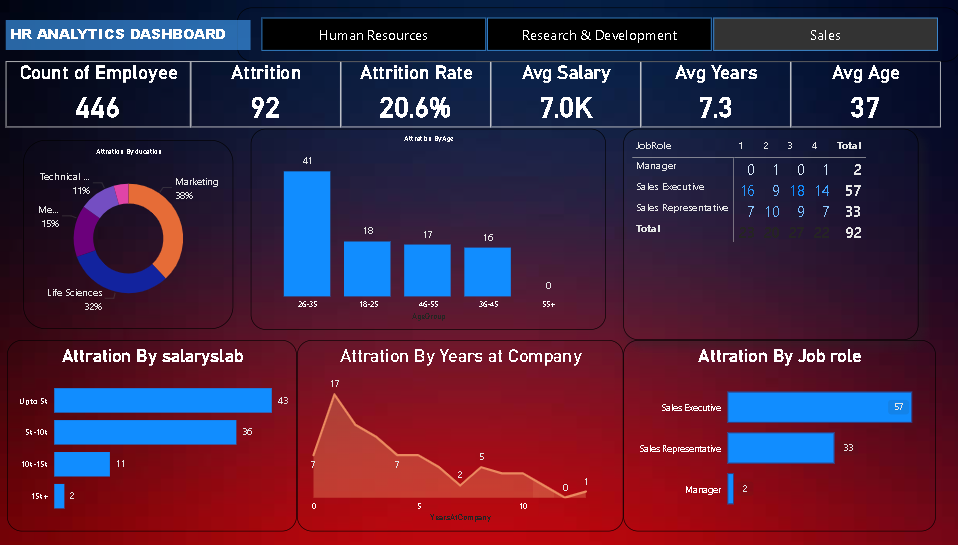

Layout of this report page (visuals, bound fields, positions):
{"tool":"powerbi","page":{"name":"Page 1","canvas":[1285,730],"ordinal":0},"visuals":[{"type":"card","title":"Count of Employee","fields":{"Values":["CountNonNull(HR_Analytics 001(1).EmpID)"]},"box":[11.7,81.7,246.7,88.3],"z":0},{"type":"card","title":"Attrition","fields":{"Values":["Sum(HR_Analytics 001(1).Attritioncount)"]},"box":[258.3,81.7,200,88.3],"z":1000},{"type":"card","title":"Attrition Rate","fields":{"Values":["HR_Analytics 001(1).AttritionRate"]},"box":[458.3,81.7,200,88.3],"z":2000},{"type":"card","title":"Avg Age","fields":{"Values":["Avg(HR_Analytics 001(1).Age)"]},"box":[1058.3,81.7,200,88.3],"z":3000},{"type":"card","title":"Avg  Salary","fields":{"Values":["Avg(HR_Analytics 001(1).MonthlyIncome)"]},"box":[658.3,81.7,200,88.3],"z":4000},{"type":"card","title":"Avg Years","fields":{"Values":["Avg(HR_Analytics 001(1).YearsAtCompany)"]},"box":[858.3,81.7,200,88.3],"z":5000},{"type":"donutChart","title":"Attration By ducation","fields":{"Category":["HR_Analytics 001(1).EducationField"],"Y":["Sum(HR_Analytics 001(1).Attritioncount)"]},"box":[35,186.7,280,251.7],"z":6000},{"type":"columnChart","title":"Attration ByAge","fields":{"Category":["HR_Analytics 001(1).AgeGroup"],"Y":["Sum(HR_Analytics 001(1).Attritioncount)"]},"box":[338.3,171.7,473.3,268.3],"z":7000},{"type":"pivotTable","fields":{"Rows":["HR_Analytics 001(1).JobRole"],"Columns":["HR_Analytics 001(1).JobSatisfaction"],"Values":["Sum(HR_Analytics 001(1).Attritioncount)"]},"box":[835,171.7,393.3,281.7],"z":8000},{"type":"barChart","title":"Attration By Job role","fields":{"Category":["HR_Analytics 001(1).JobRole"],"Y":["Sum(HR_Analytics 001(1).Attritioncount)"]},"box":[835,453.3,416.7,255],"z":9000},{"type":"areaChart","title":"Attration By Years at Company","fields":{"Category":["HR_Analytics 001(1).YearsAtCompany"],"Y":["Sum(HR_Analytics 001(1).Attritioncount)"]},"box":[400,453.3,435,255],"z":10000},{"type":"slicer","title":"Attration ByAge","fields":{"Values":["HR_Analytics 001(1).Department"]},"box":[320,10,965,71.7],"z":11000},{"type":"textbox","box":[11.7,26.7,326.7,40],"z":12000},{"type":"barChart","title":"Attration By salaryslab","fields":{"Category":["HR_Analytics 001(1).SalarySlab"],"Y":["Sum(HR_Analytics 001(1).Attritioncount)"]},"box":[13.3,453.3,386.7,255],"z":13000}]}

Visuals, with their boxes in screenshot pixels (x1, y1, x2, y2), scaled from the page's 1285x730 canvas onto the 958x545 screenshot:
"Count of Employee" card: [left=9, top=61, right=193, bottom=127]
"Attrition" card: [left=193, top=61, right=342, bottom=127]
"Attrition Rate" card: [left=342, top=61, right=491, bottom=127]
"Avg Age" card: [left=789, top=61, right=938, bottom=127]
"Avg  Salary" card: [left=491, top=61, right=640, bottom=127]
"Avg Years" card: [left=640, top=61, right=789, bottom=127]
"Attration By ducation" donutChart: [left=26, top=139, right=235, bottom=327]
"Attration ByAge" columnChart: [left=252, top=128, right=605, bottom=328]
pivotTable - HR_Analytics 001(1).JobRole x HR_Analytics 001(1).JobSatisfaction: [left=623, top=128, right=916, bottom=338]
"Attration By Job role" barChart: [left=623, top=338, right=933, bottom=529]
"Attration By Years at Company" areaChart: [left=298, top=338, right=623, bottom=529]
"Attration ByAge" slicer: [left=239, top=7, right=957, bottom=61]
textbox: [left=9, top=20, right=252, bottom=50]
"Attration By salaryslab" barChart: [left=10, top=338, right=298, bottom=529]
